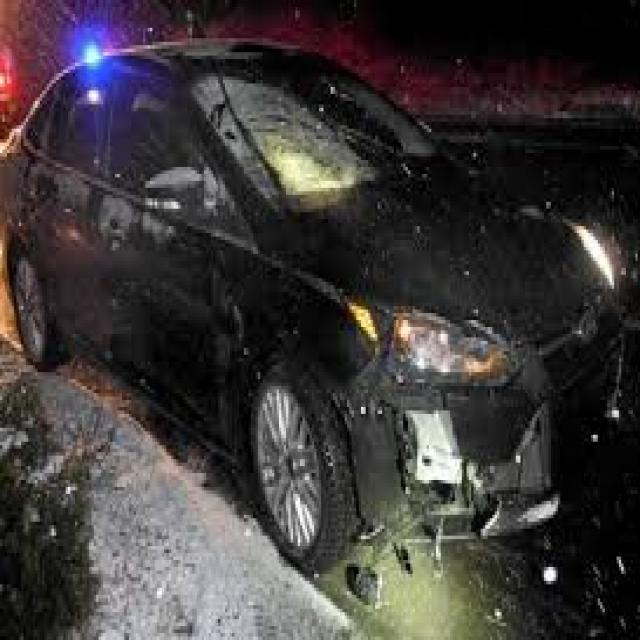moderate: (224, 232, 621, 569)
